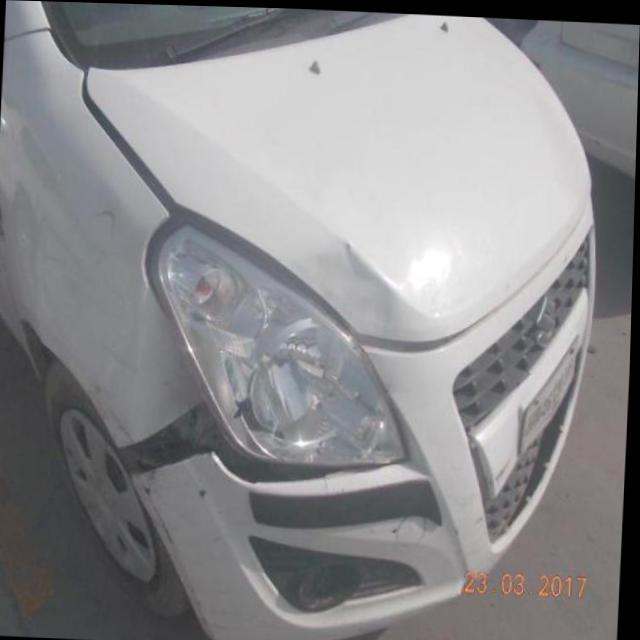Car-Damage: (119, 395, 384, 489), (298, 242, 399, 333)
